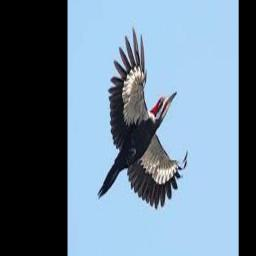Woodpecker: (98, 26, 188, 208)
